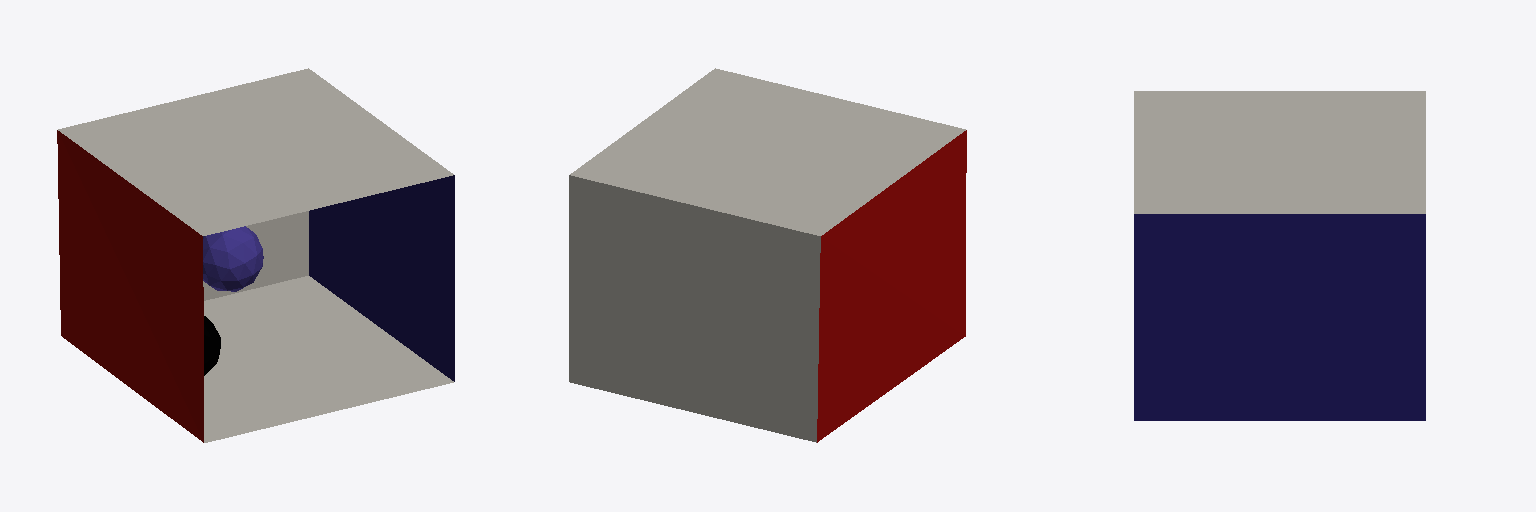
Rendered from CornellBox-Sphere-315.obj.
The picture shows the model from 3 angles: view 1: azimuth 30°, elevation 25°; view 2: azimuth 150°, elevation 25°; view 3: azimuth 270°, elevation 25°; orthographic projection.
Parts seen in each view (by area): view 1: ceiling, leftWall, floor, rightWall, backWall, leftSphere, rightSphere; view 2: backWall, ceiling, leftWall; view 3: rightWall, ceiling.
Boxes of the visible parts, x1=… form: ceiling: x1=58, y1=68, x2=453, y2=235; leftWall: x1=57, y1=130, x2=203, y2=442; floor: x1=204, y1=276, x2=453, y2=442; rightWall: x1=309, y1=175, x2=454, y2=381; backWall: x1=203, y1=211, x2=308, y2=300; leftSphere: x1=203, y1=226, x2=263, y2=291; rightSphere: x1=204, y1=316, x2=220, y2=375; backWall: x1=569, y1=175, x2=820, y2=442; ceiling: x1=570, y1=68, x2=965, y2=235; leftWall: x1=817, y1=130, x2=966, y2=442; rightWall: x1=1134, y1=214, x2=1425, y2=420; ceiling: x1=1134, y1=91, x2=1425, y2=213.
Bounding box in the file's own units: 2.02 × 1.59 × 2.03.